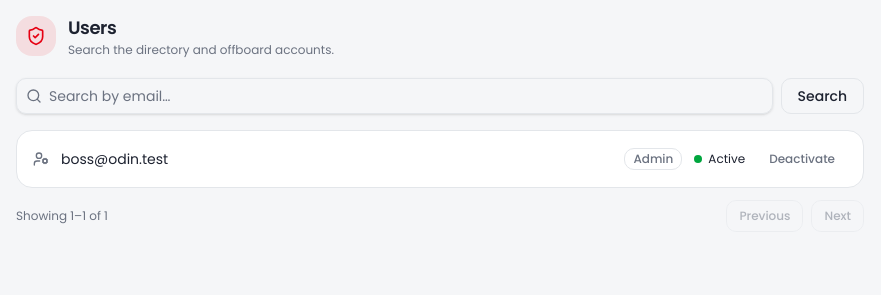
Test: UsersPage › renders a 409 refusal verbatim and keeps the account active
The width and height of the screenshot is (881, 295).
expect the link "boss@odin.test" is shown: met, box [61,149,168,169]
Click the button "Deactivate" at [802, 159], box [757,143,847,175]
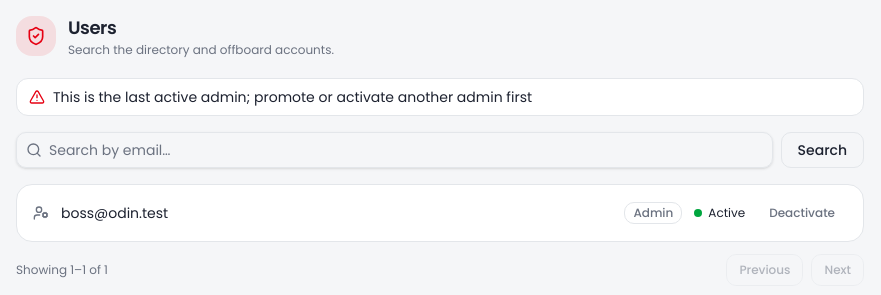
expect the button "Deactivate" is shown: met, box [757,197,847,229]
expect the text "This is the last active admin; promote or activate another admin first" is shown: met, box [53,87,532,107]
